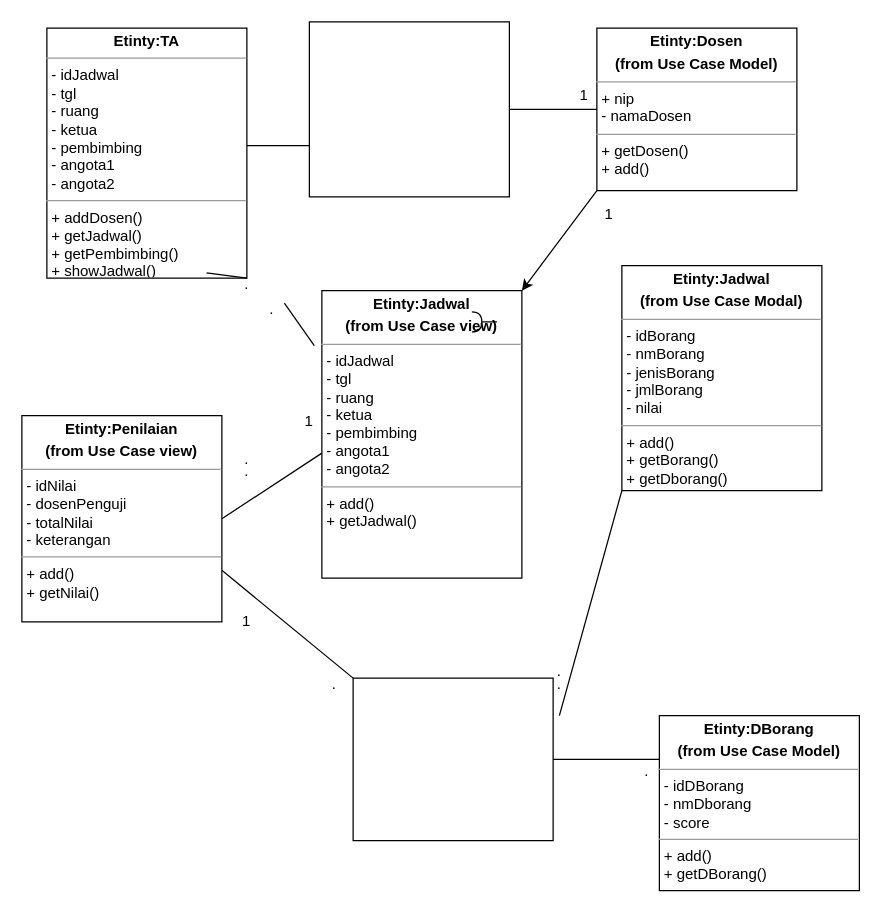
Some shapes in this 881 by 913 pixel diagram are drawn without their labels. The shapes that lost their labels are listed below. From the top down, each one's centre as x and y in pixels, then its label:
At (x=408, y=109): "Etinty:TA + idTA - mahasiswa - tanggalSubmit - jenis - file + add() + getTa()".
At (x=452, y=759): "Etinty:Dnilai (from Use Case Model) - idDNilai - review + add() + getDNilai()".
